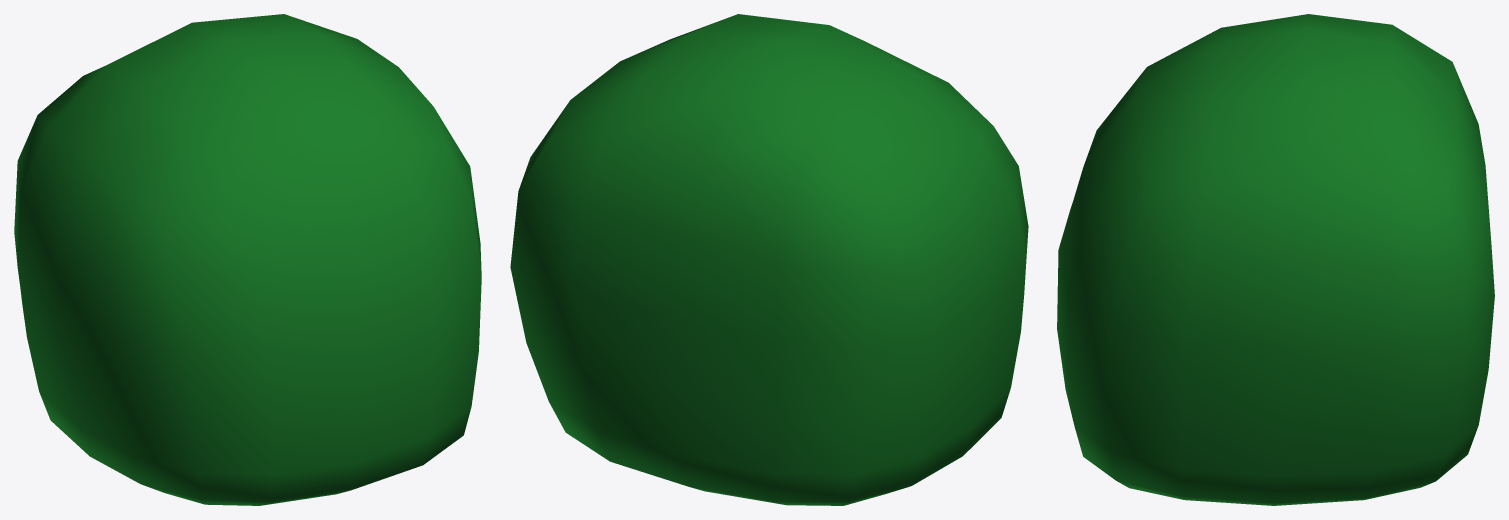
Rendered from LowPolyBush.fbx.
3 renders of one model, left to right at view 1: azimuth 30°, elevation 25°; view 2: azimuth 150°, elevation 25°; view 3: azimuth 270°, elevation 25°, orthographic. The views are drawn at different scales.
Visible parts, largest first — view 1: Cube; view 2: Cube; view 3: Cube.
Part boxes in pixels (x1,y1,x2,y2): Cube: (14, 14, 481, 505); Cube: (510, 14, 1028, 505); Cube: (1057, 14, 1494, 505).
Size of the model in its own units: 229 by 224 by 213.
